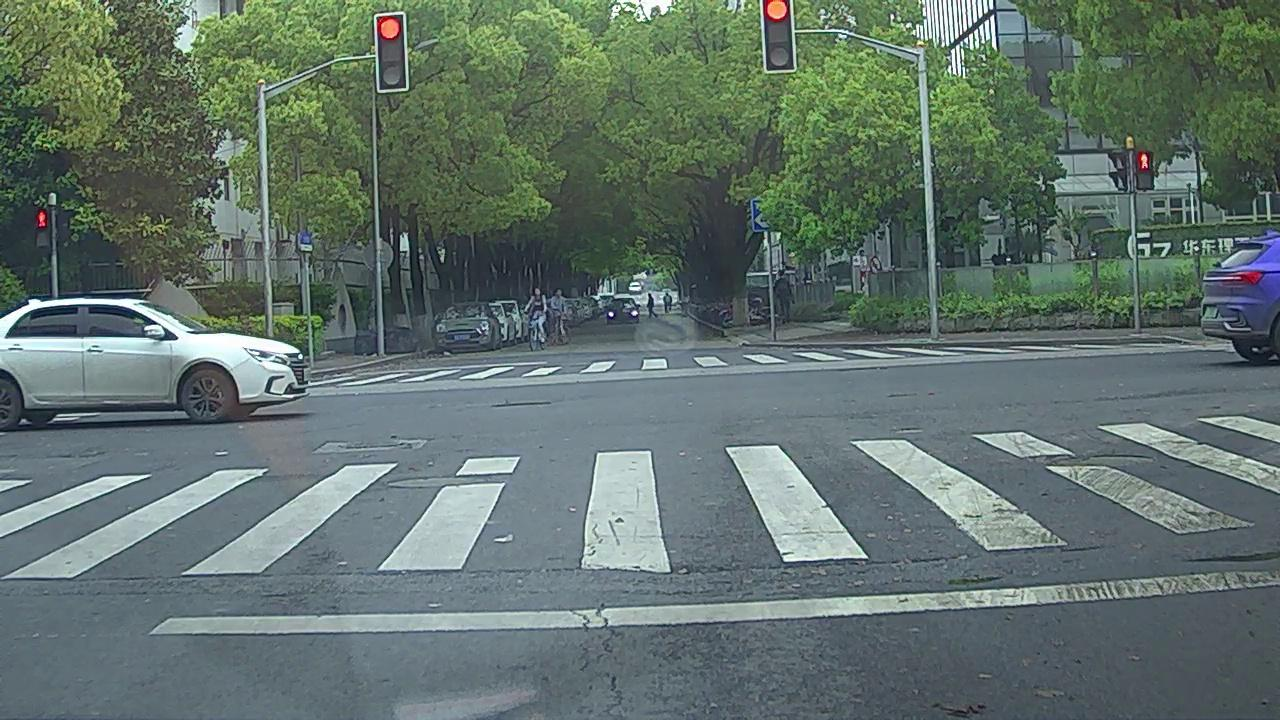traffic_light: (375, 14, 408, 91), (762, 1, 795, 72)
